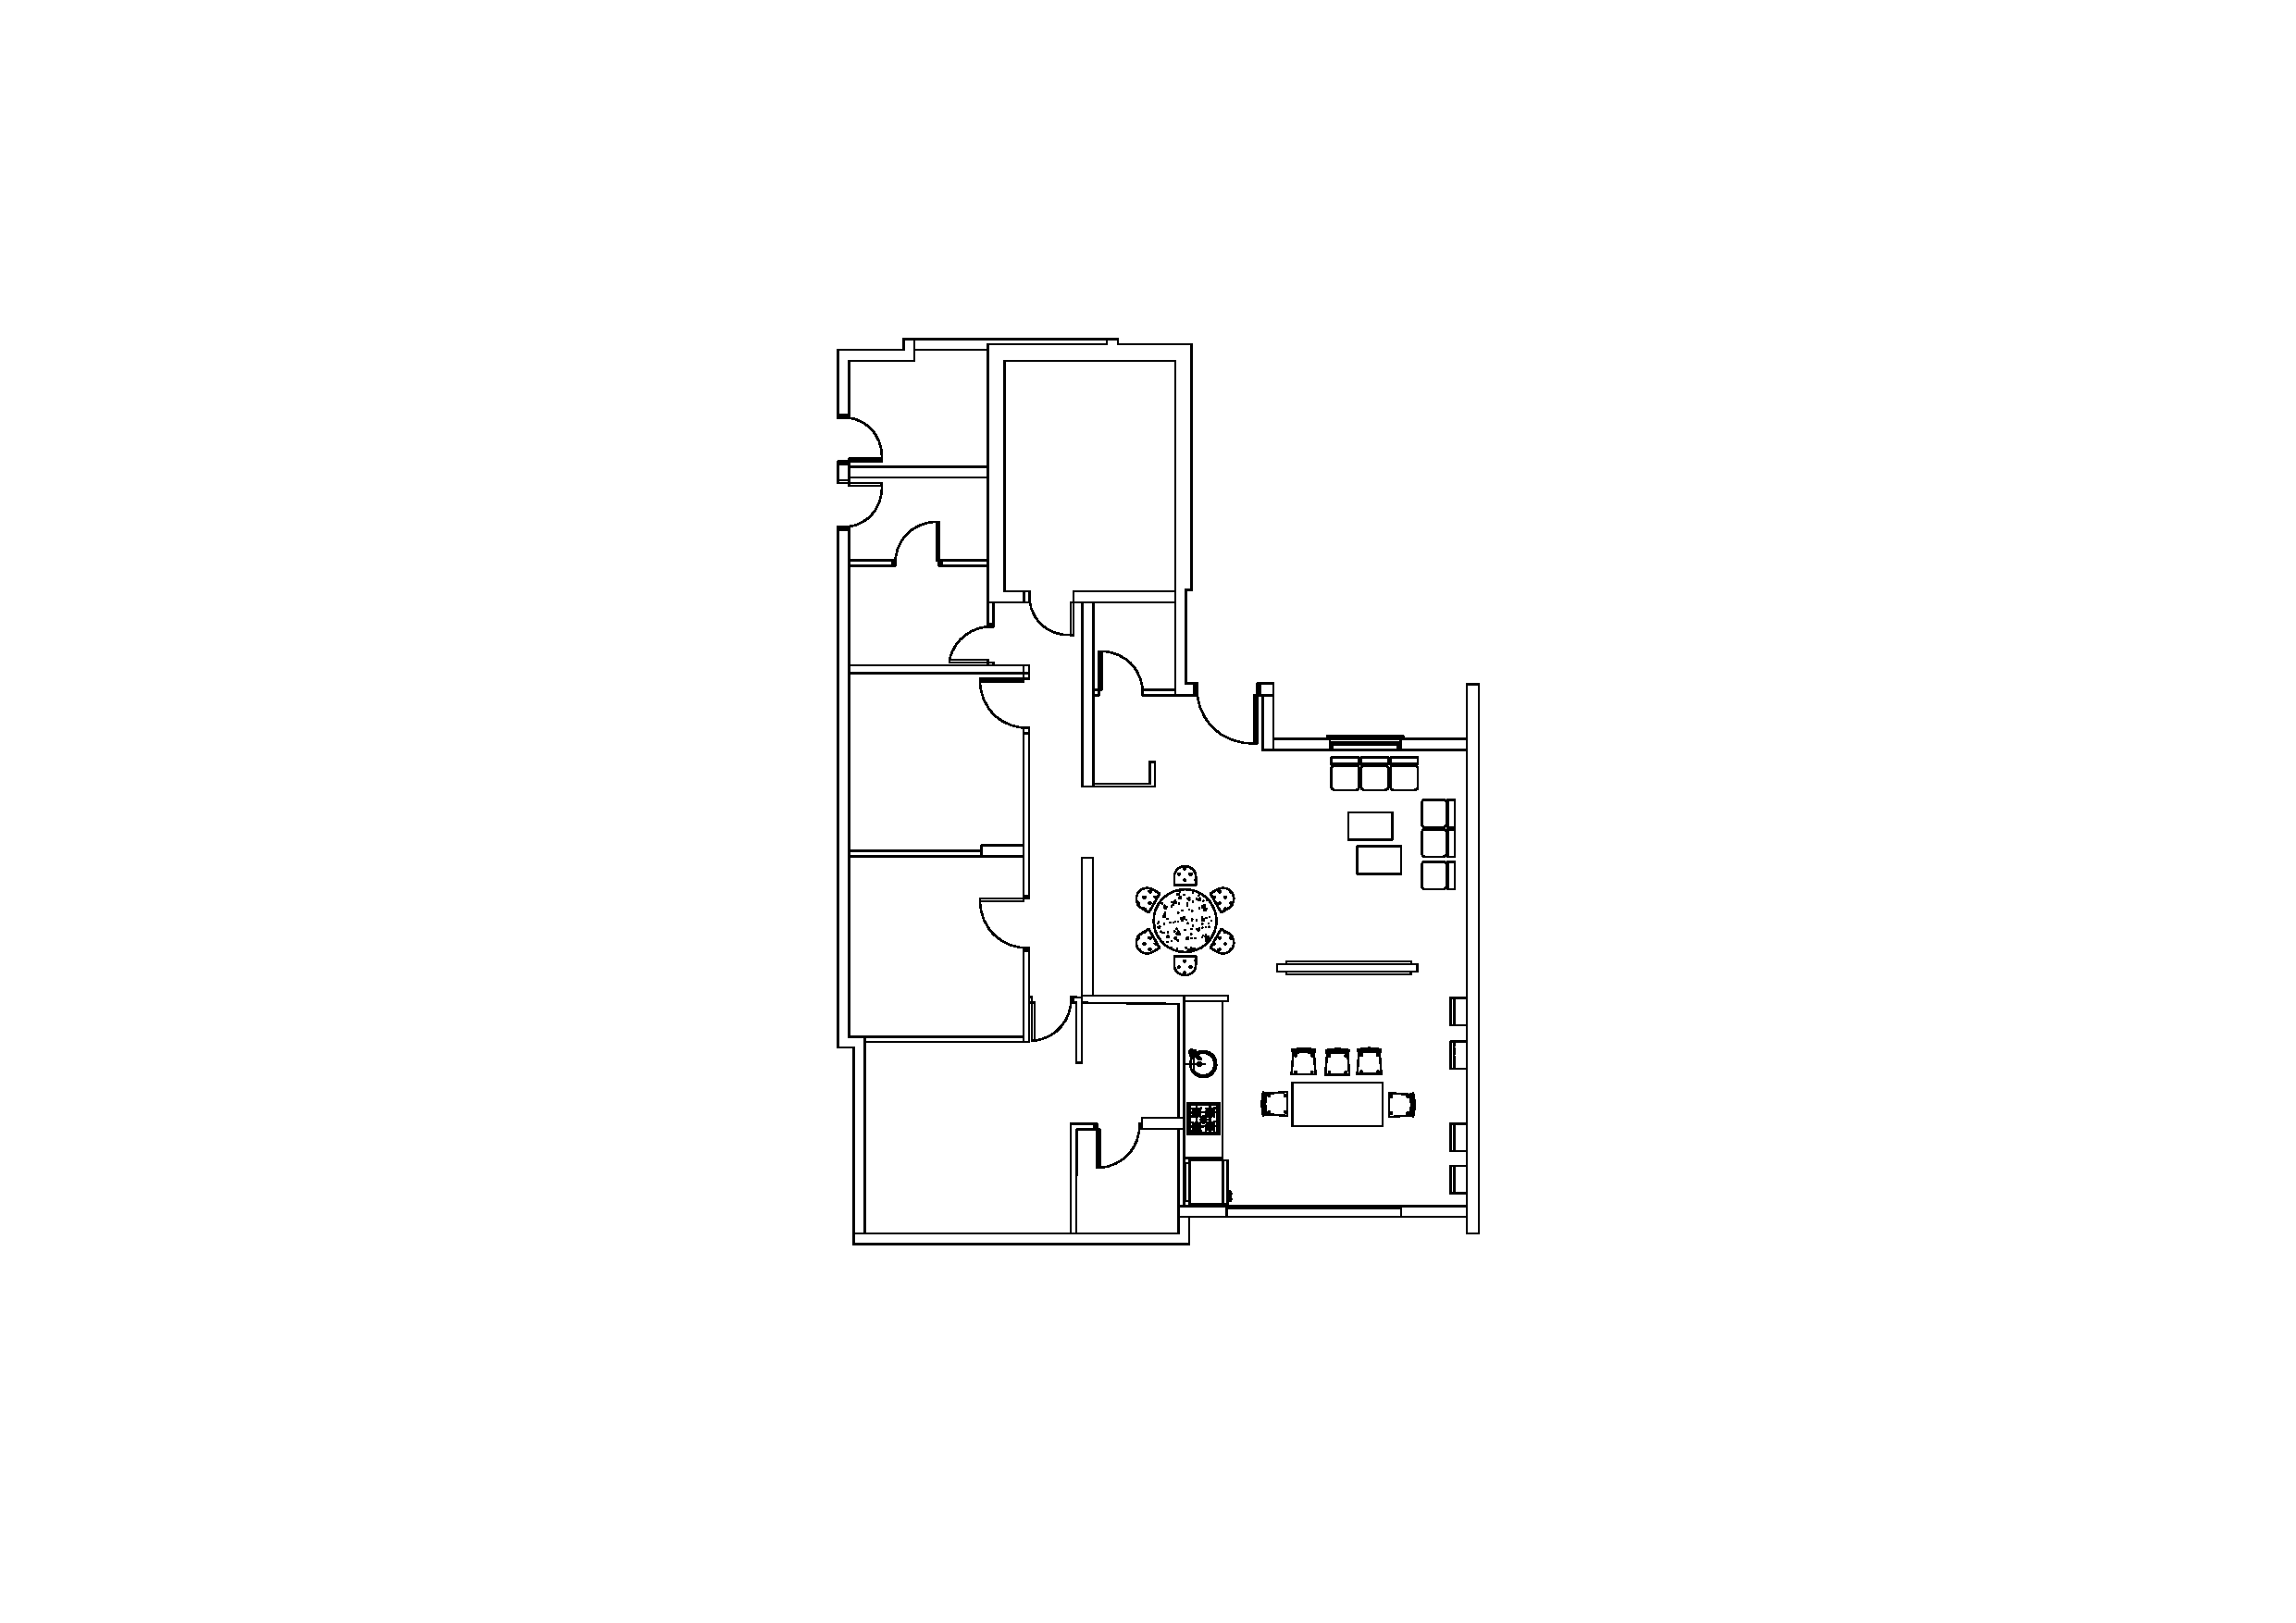door: (957, 894, 1017, 952), (1198, 701, 1258, 759), (970, 674, 1021, 734), (1094, 643, 1151, 692), (1029, 608, 1082, 648), (854, 411, 891, 465), (854, 480, 891, 534), (1029, 1005, 1075, 1045), (942, 620, 977, 662)
wall: (1465, 682, 1479, 1231), (836, 552, 848, 1042), (1172, 344, 1193, 588), (840, 567, 848, 1047), (986, 343, 1001, 602), (856, 1233, 1186, 1245), (1084, 855, 1094, 999)
